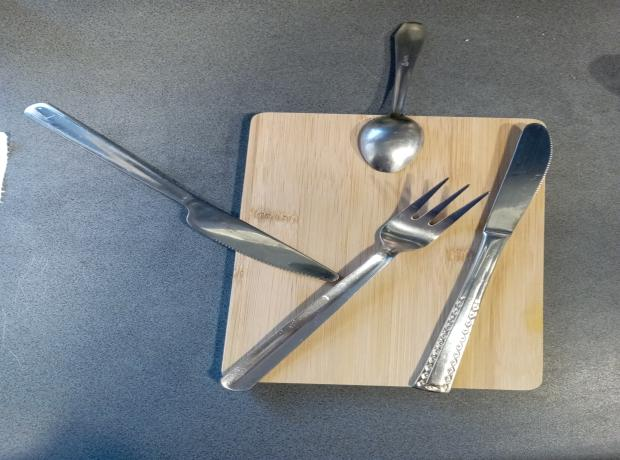metal: (219, 176, 492, 394), (25, 103, 339, 283), (412, 122, 555, 395), (356, 21, 428, 173)
